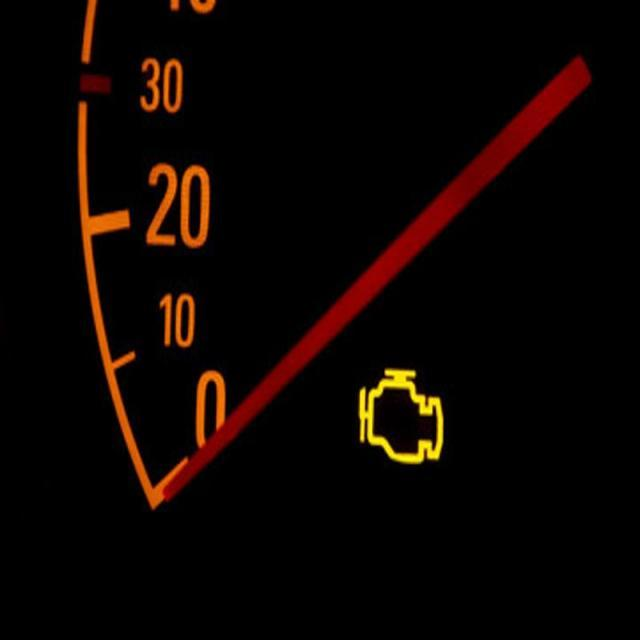EngineWarning: (358, 368, 442, 463)
